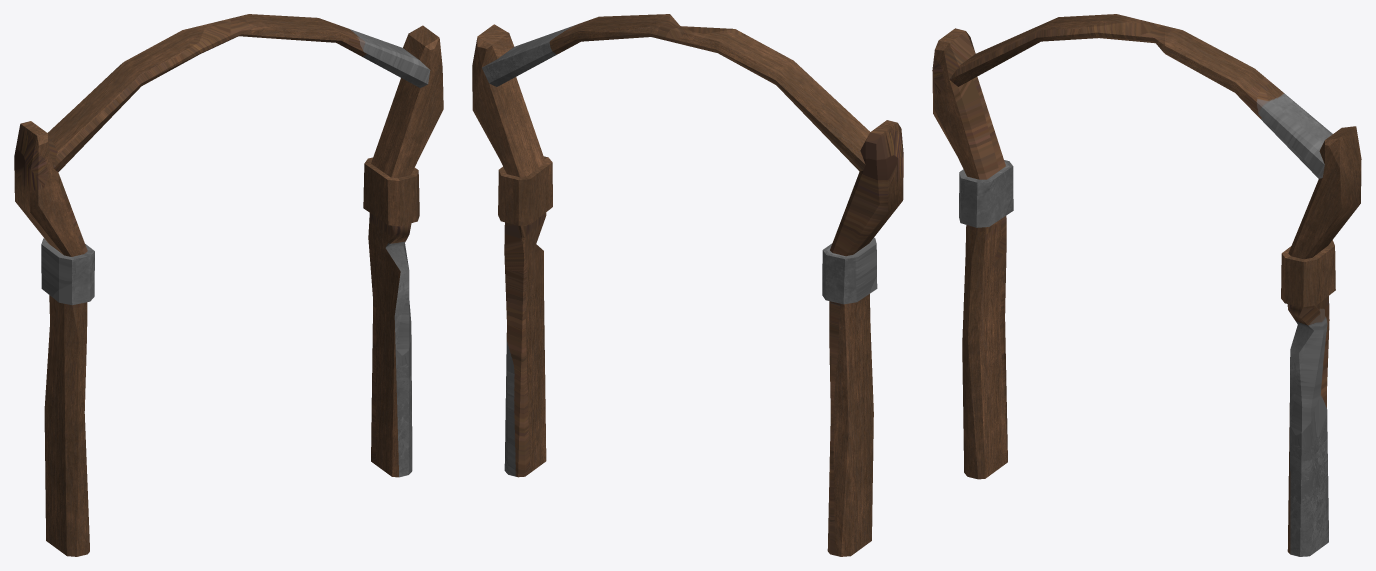
File: PropBridge1.fbx
3 renders of one model, left to right at view 1: azimuth 30°, elevation 25°; view 2: azimuth 150°, elevation 25°; view 3: azimuth 330°, elevation 25°, orthographic.
Parts seen in each view (by area): view 1: PropBridge1; view 2: PropBridge1; view 3: PropBridge1.
Part boxes in pixels (left/top/right/bottom): PropBridge1: left=14, top=14, right=443, bottom=556; PropBridge1: left=472, top=14, right=903, bottom=556; PropBridge1: left=932, top=14, right=1361, bottom=556.
Size of the model in its own units: 3.16 by 3.49 by 0.4226.
Materials: 1 (1 with a texture image).
